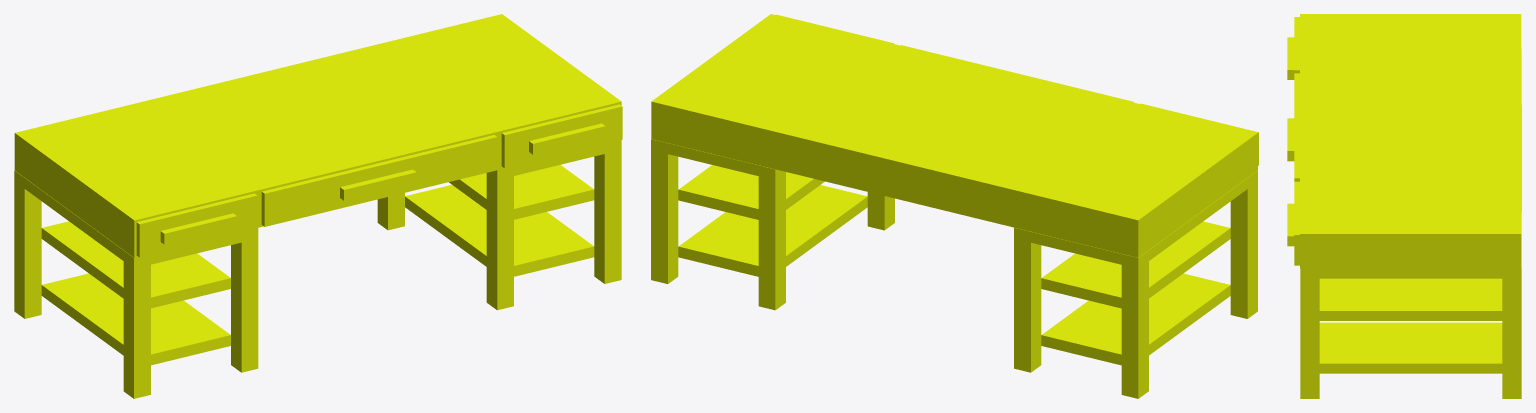
Rendered from Desk2.FBX.
3 renders of one model, left to right at view 1: azimuth 30°, elevation 25°; view 2: azimuth 150°, elevation 25°; view 3: azimuth 270°, elevation 25°, orthographic. The views are drawn at different scales.
Visible parts, largest first — view 1: Box010; view 2: Box010; view 3: Box010.
Part boxes in pixels (bbox=[...]): Box010: bbox=[14, 14, 622, 398]; Box010: bbox=[651, 14, 1258, 398]; Box010: bbox=[1287, 14, 1521, 398].
Bounding box in the file's own units: 3.6 × 1.26 × 1.62.
